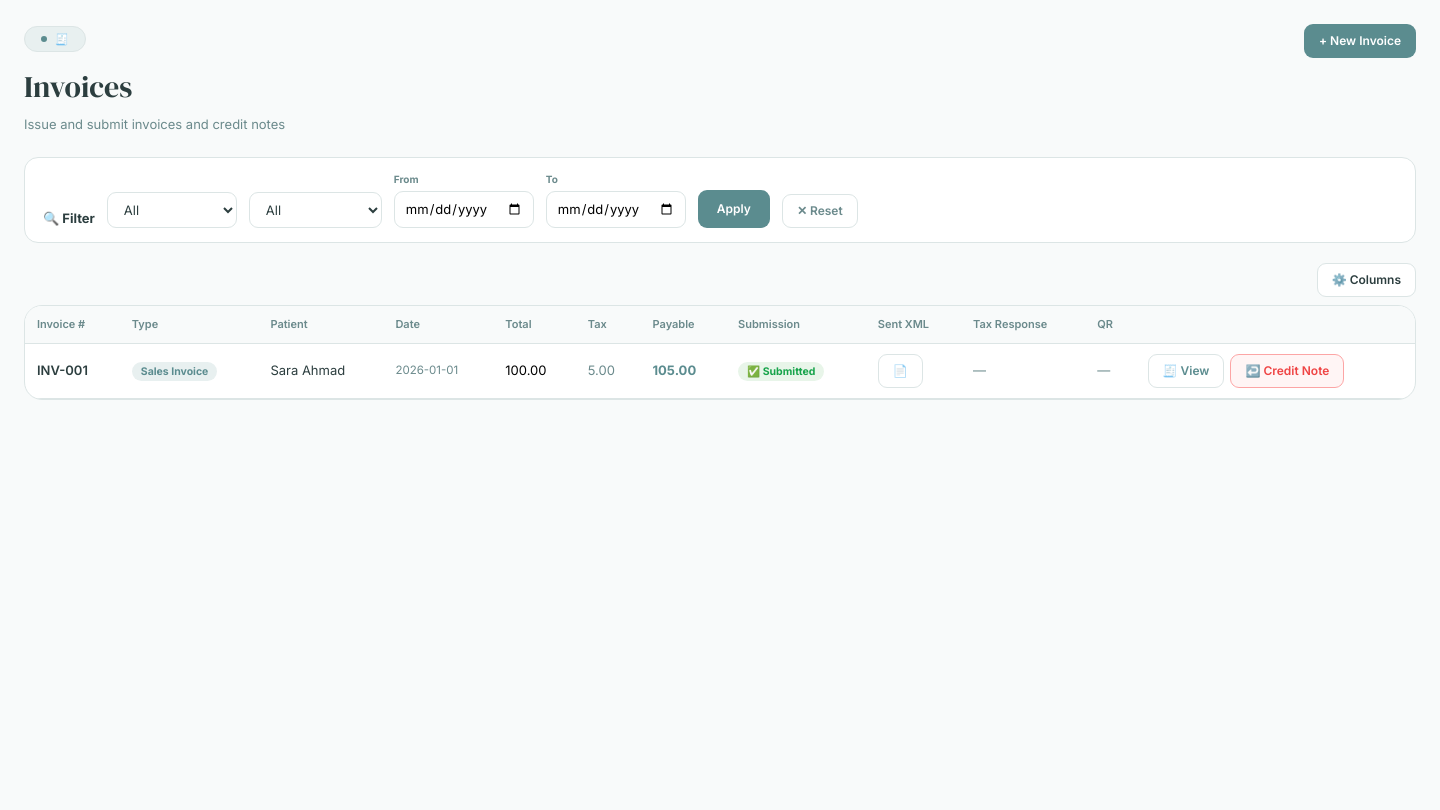
it: Invoices › shows the QR/XML viewer for a submitted invoice
This screenshot has width=1440, height=810.
Expected: the text "Sara Ahmad" is shown, [258,343,383,398]
Click the button "📄" at (900, 371), box [878,354,923,388]
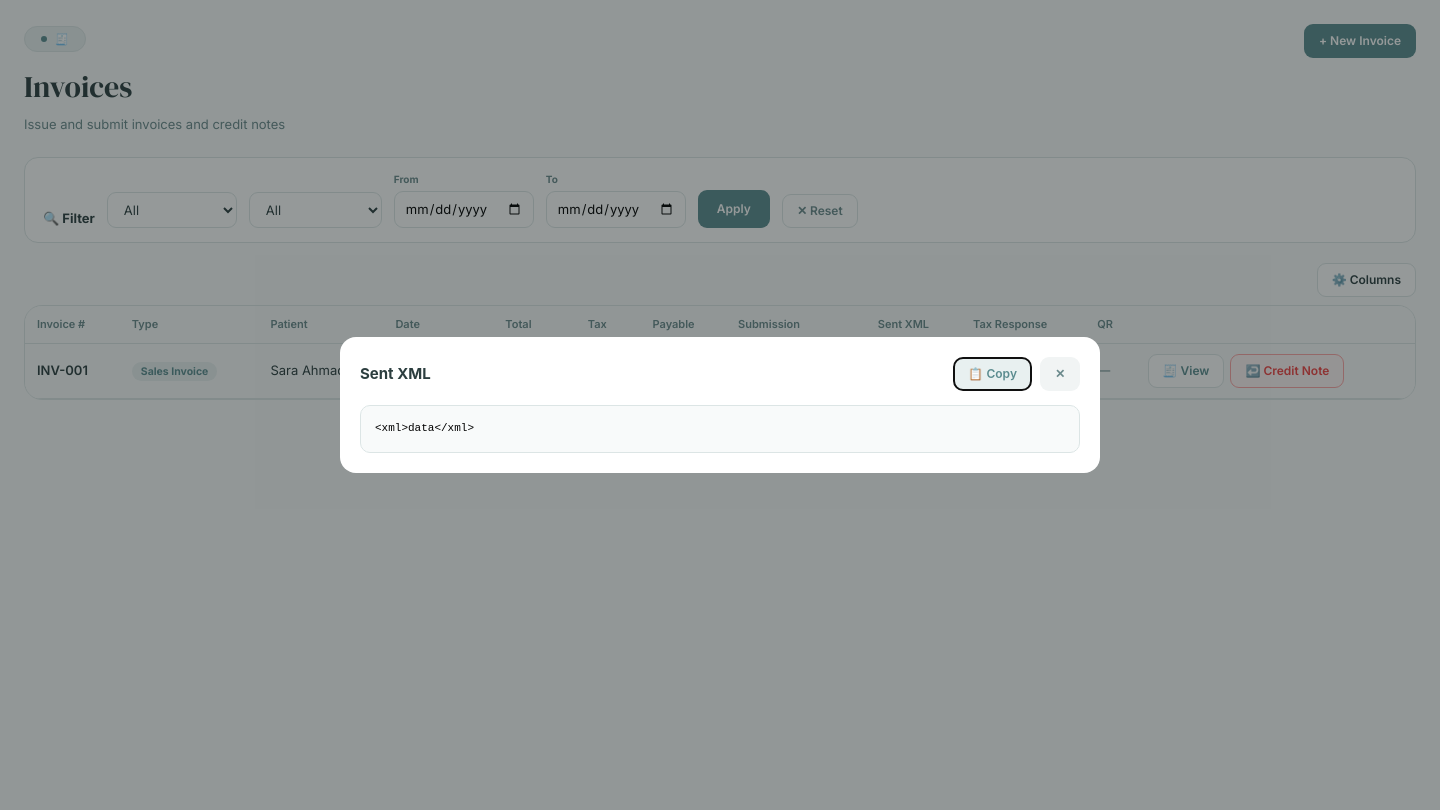
Expected: the text "<xml>data</xml>" is shown, [360,405,1080,453]
Expected: the dialog is shown, [340,337,1100,473]
Press Escape
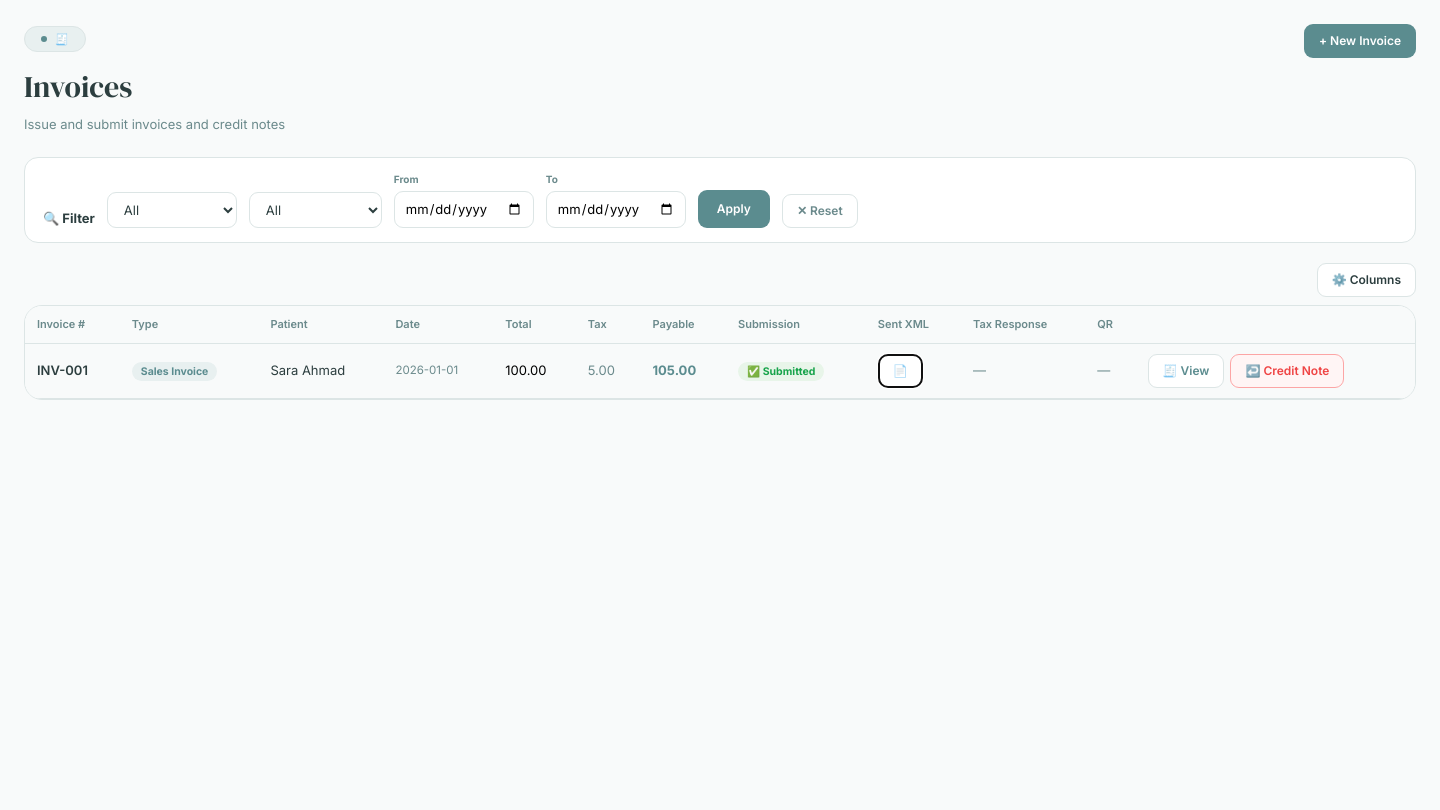
Expected: the dialog is gone
